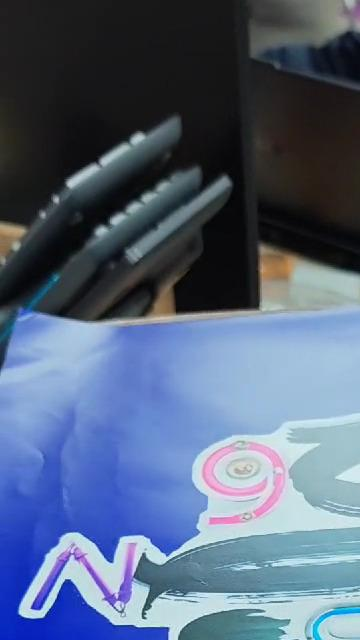B_R1: (19, 414, 360, 640)
